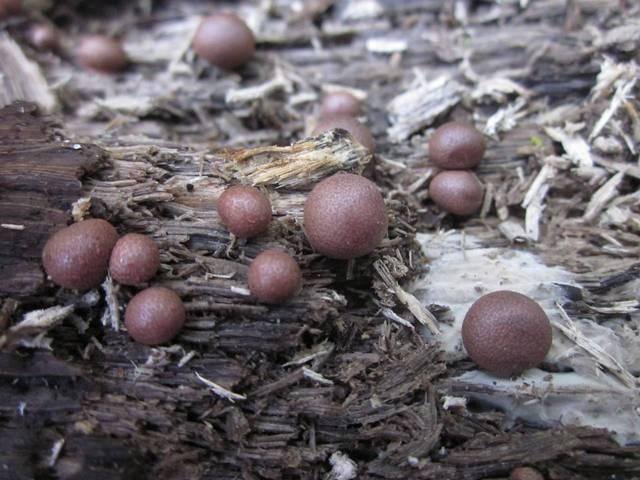Non-edible Mushroom: (460, 289, 552, 378), (302, 171, 388, 260), (40, 217, 117, 291), (190, 11, 256, 70), (123, 285, 186, 345), (215, 182, 272, 239), (246, 248, 301, 304), (107, 231, 160, 286), (427, 120, 485, 169), (310, 112, 375, 155), (427, 168, 483, 216)
